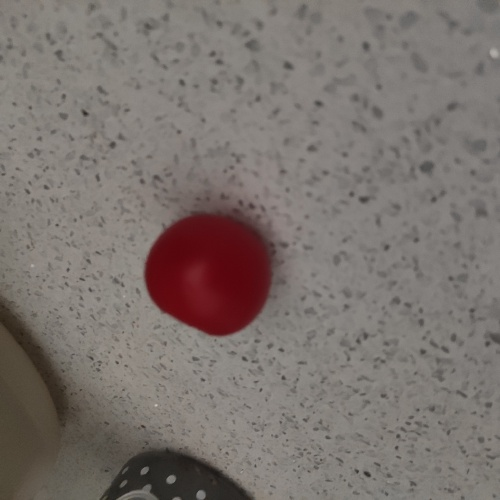pomodoro: (141, 209, 281, 339)
